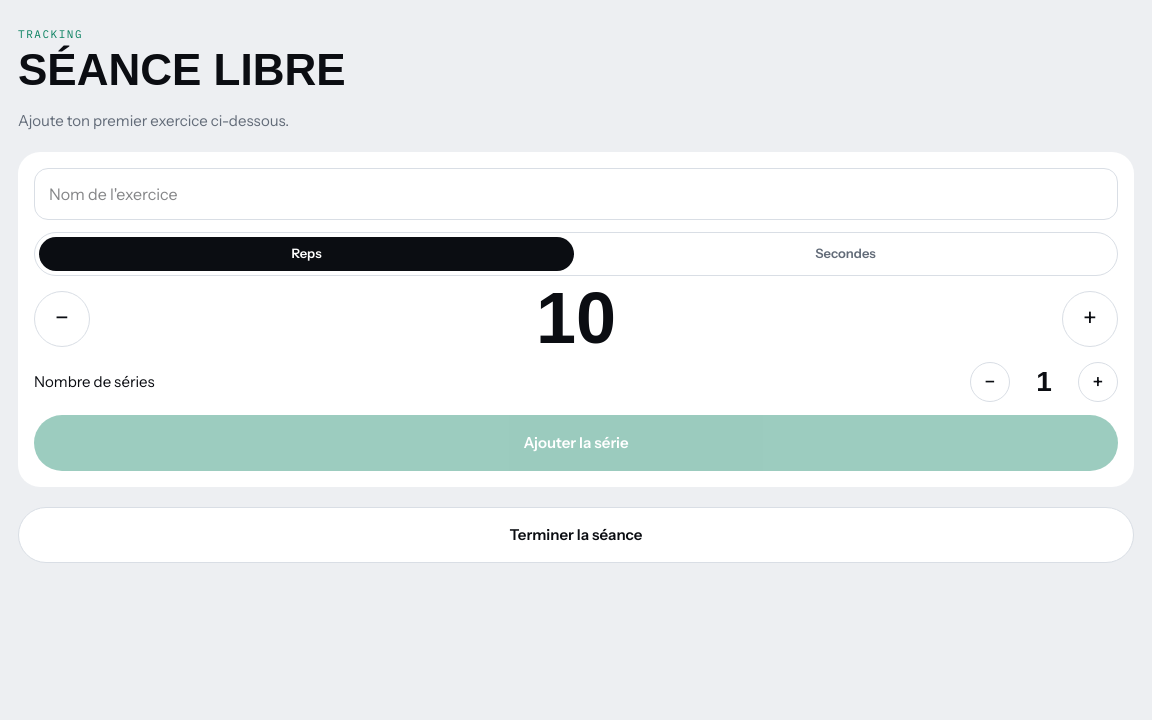
Test: TrackingSeanceScreen › re-enables Ajouter la série and shows an error affordance when logTrackingSetAction fails
The width and height of the screenshot is (1152, 720).
Type "Fentes" into the field with placeholder "Nom de l'exercice" at (576, 194), box [34,168,1118,220]
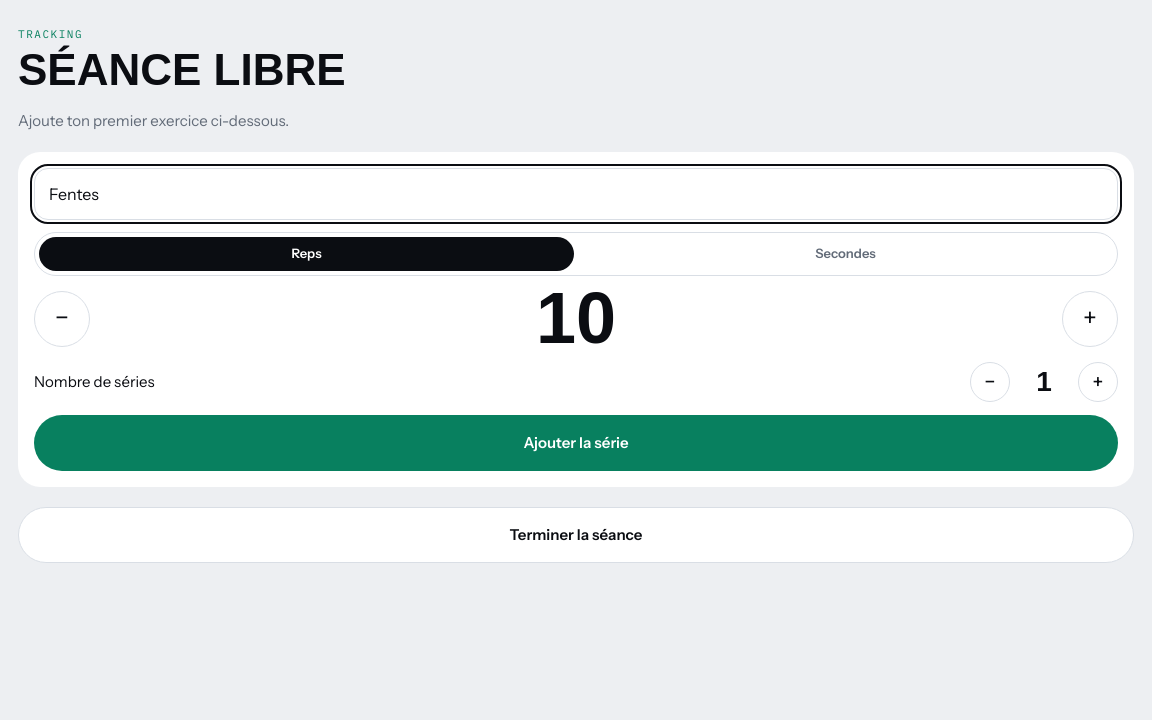
Click the button "Ajouter la série" at (576, 443), box [34,415,1118,471]
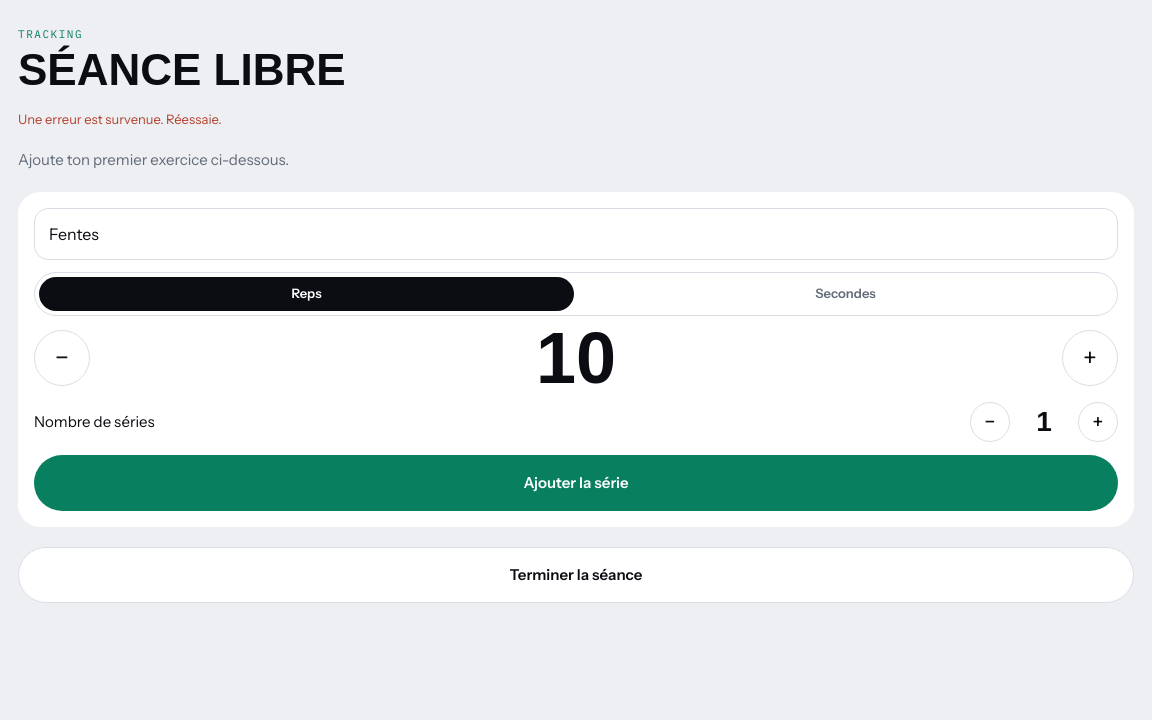
Check: the button "Ajouter la série" is enabled, box [34,455,1118,511]
Check: the text "Une erreur est survenue. Réessaie." is shown, box [18,111,222,127]
